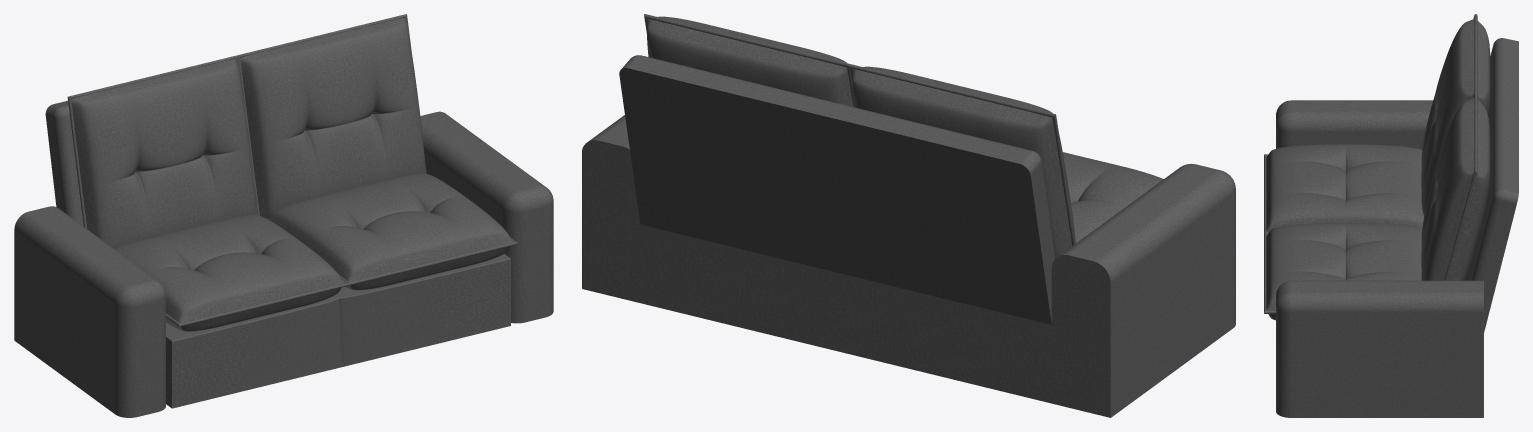
Rendered from AFOS GRAD3.glb.
3 renders of one model, left to right at view 1: azimuth 30°, elevation 25°; view 2: azimuth 150°, elevation 25°; view 3: azimuth 270°, elevation 25°, orthographic. The views are drawn at different scales.
Parts seen in each view (by area): view 1: Sofá\Sólido (4), Sofá\Sólido (3), Componente1\Sólido, Componente2\Sólido11, Sofá\Sólido (2), Sofá\Sólido, Componente2\Sólido11 (2), Sólido1\Sólido1; view 2: Sólido1\Sólido1, Componente2\Sólido11, Componente1\Sólido, Sofá\Sólido (3), Sofá\Sólido (4), Componente2\Sólido11 (2), Sofá\Sólido; view 3: Componente2\Sólido11 (2), Sofá\Sólido, Sofá\Sólido (2), Sofá\Sólido (4), Sólido1\Sólido1, Componente2\Sólido11, Sofá\Sólido (3).
Boxes of the visible parts, box(x1,y1,x2,y2) form: Sofá\Sólido (4): box(237, 14, 426, 218); Sofá\Sólido (3): box(67, 55, 257, 248); Componente1\Sólido: box(166, 253, 510, 408); Componente2\Sólido11: box(14, 206, 165, 417); Sofá\Sólido (2): box(266, 173, 517, 290); Sofá\Sólido: box(114, 215, 348, 331); Componente2\Sólido11 (2): box(420, 111, 553, 323); Sólido1\Sólido1: box(45, 100, 83, 226); Sólido1\Sólido1: box(619, 55, 1055, 324); Componente2\Sólido11: box(1051, 163, 1235, 417); Componente1\Sólido: box(640, 224, 1051, 403); Sofá\Sólido (3): box(849, 64, 1075, 258); Sofá\Sólido (4): box(644, 14, 853, 106); Componente2\Sólido11 (2): box(582, 115, 640, 302); Sofá\Sólido: box(1062, 152, 1163, 243); Componente2\Sólido11 (2): box(1276, 280, 1483, 417); Sofá\Sólido: box(1264, 144, 1423, 233); Sofá\Sólido (2): box(1264, 223, 1422, 320); Sofá\Sólido (4): box(1421, 92, 1490, 280); Sólido1\Sólido1: box(1465, 38, 1518, 332); Componente2\Sólido11: box(1276, 100, 1432, 149); Sofá\Sólido (3): box(1421, 14, 1490, 216).
Size of the model in its own units: 3.93 by 2.02 by 2.09.
1 material, 1 textured.
